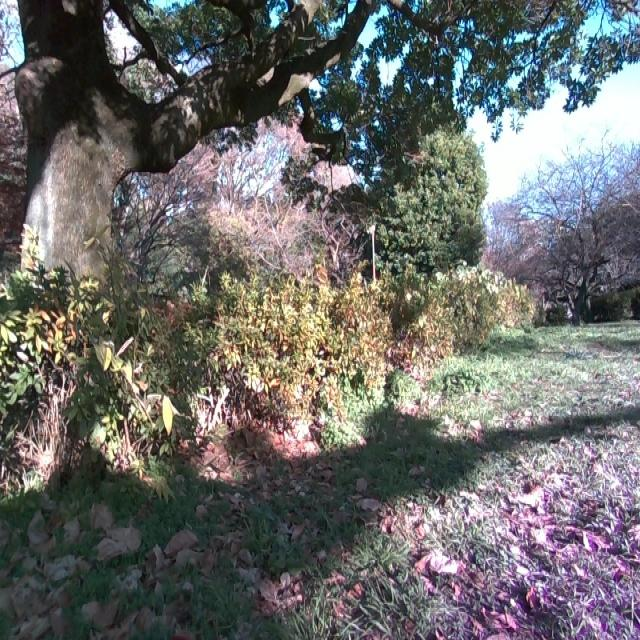bush: (8, 243, 527, 489)
tree: (13, 0, 373, 280), (557, 164, 620, 327)
